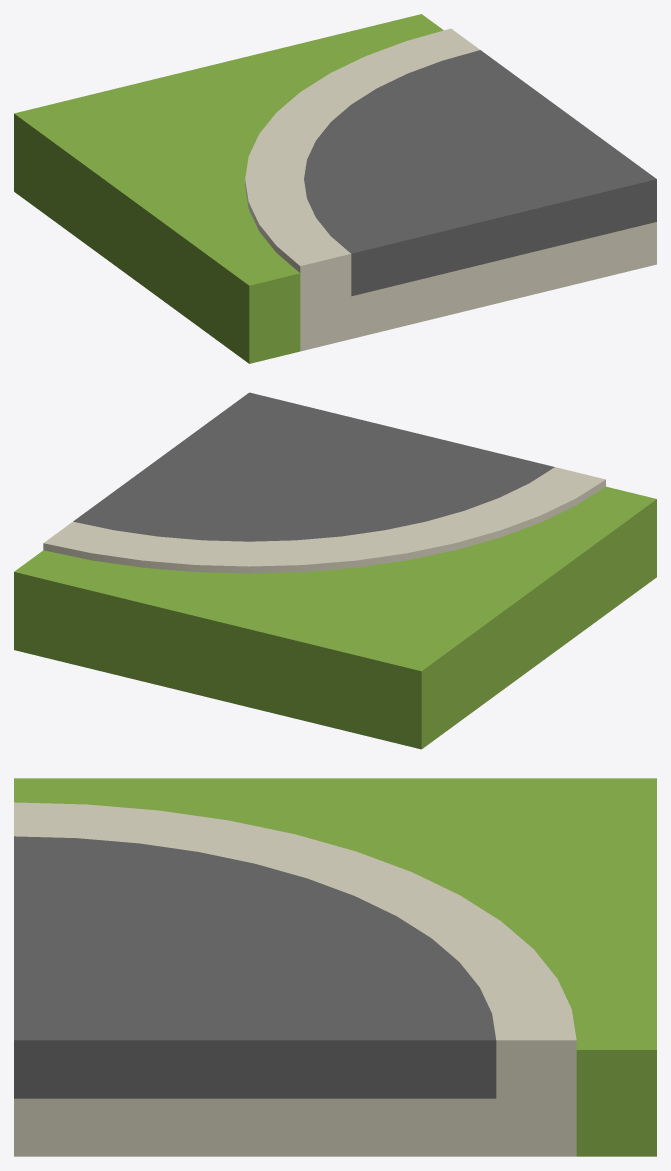
Rendered from roadTile_054.fbx.
3 views of the same model, one above another, from view 1: azimuth 30°, elevation 25°; view 2: azimuth 150°, elevation 25°; view 3: azimuth 270°, elevation 25° (orthographic). The views are drawn at different scales.
Visible parts, largest first — view 1: roadTile_054; view 2: roadTile_054; view 3: roadTile_054.
Part boxes in pixels (bbox=[...]): roadTile_054: bbox=[14, 14, 656, 363]; roadTile_054: bbox=[14, 392, 656, 749]; roadTile_054: bbox=[14, 778, 656, 1156].
Bounding box in the file's own units: 118 × 23.62 × 118.
